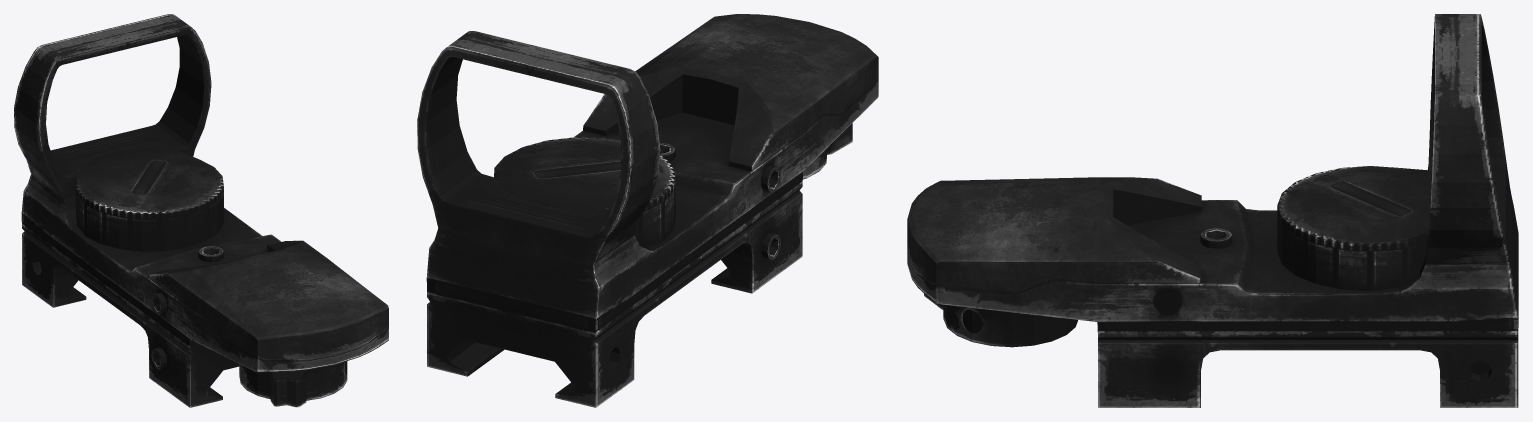
File: RDS2.fbx
3 views of the same model, side by side, from view 1: azimuth 30°, elevation 25°; view 2: azimuth 150°, elevation 25°; view 3: azimuth 270°, elevation 25° (orthographic). The views are drawn at different scales.
Visible parts, largest first — view 1: RDS2; view 2: RDS2; view 3: RDS2.
Boxes of the visible parts, bbox=[...] form: RDS2: bbox=[14, 14, 388, 407]; RDS2: bbox=[417, 14, 878, 407]; RDS2: bbox=[907, 14, 1518, 407].
Bounding box in the file's own units: 0.1081 × 0.1494 × 0.2651.
